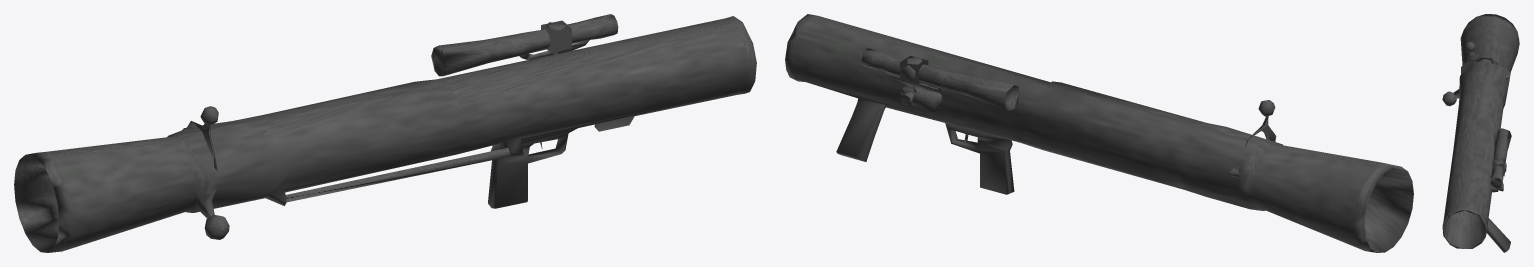
The model's file is rocket_launcher_roblox.glb.
The picture shows the model from 3 angles, left to right: view 1: azimuth 30°, elevation 25°; view 2: azimuth 150°, elevation 25°; view 3: azimuth 270°, elevation 25°; orthographic projection. The views are drawn at different scales.
Visible parts, largest first — view 1: Object_4; view 2: Object_4; view 3: Object_4.
Boxes of the visible parts, left/top/right/bottom form: Object_4: left=14, top=14, right=756, bottom=252; Object_4: left=785, top=14, right=1413, bottom=252; Object_4: left=1442, top=14, right=1519, bottom=252.
Bounding box in the file's own units: 2276 × 543 × 389.
Materials: 1 (1 with a texture image).
